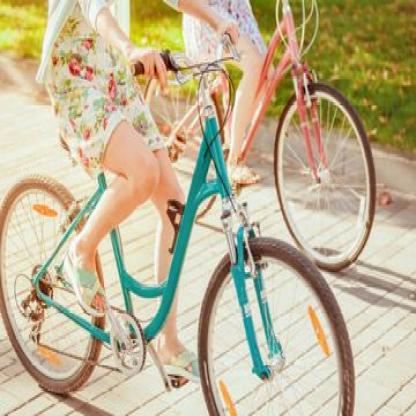Bike: (2, 22, 357, 416)
